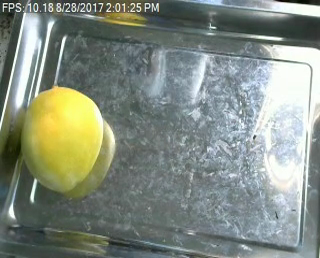Mango: (20, 87, 103, 194)
